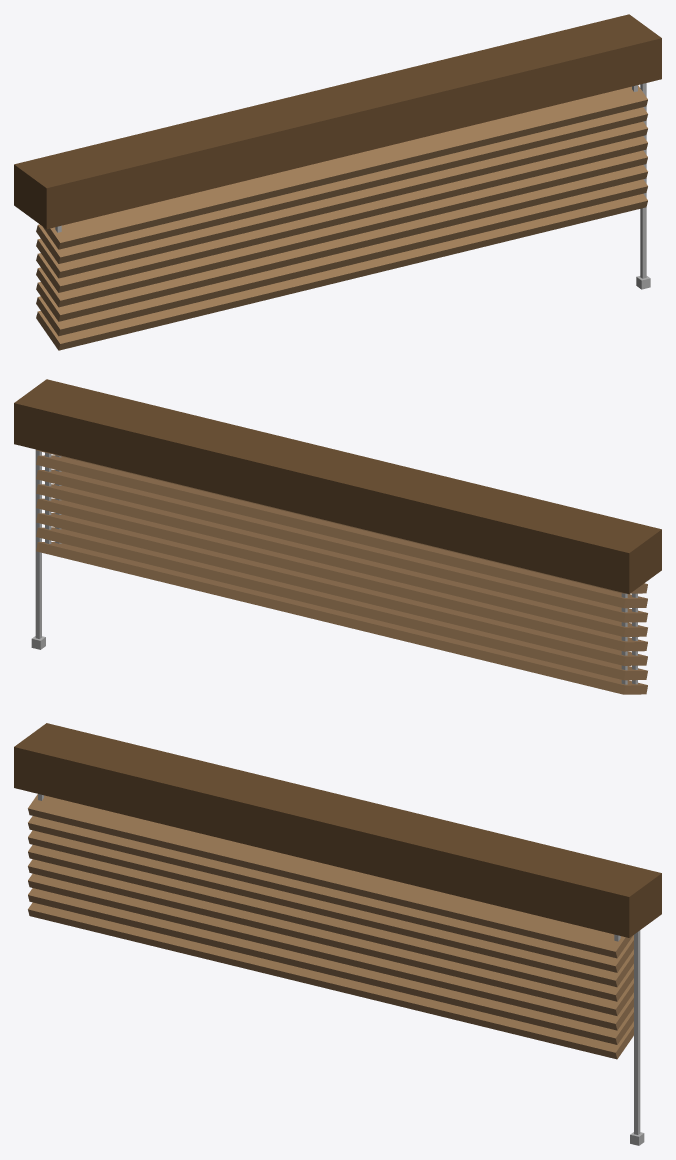
The model's file is Curtains14_C3.fbx.
The picture shows the model from 3 angles, top to bottom: view 1: azimuth 30°, elevation 25°; view 2: azimuth 150°, elevation 25°; view 3: azimuth 330°, elevation 25°; orthographic projection.
Visible parts, largest first — view 1: Curtains14_C3; view 2: Curtains14_C3; view 3: Curtains14_C3.
Part boxes in pixels (box(x1,y1,x2,y2)): Curtains14_C3: box(14, 14, 661, 350); Curtains14_C3: box(14, 379, 661, 694); Curtains14_C3: box(14, 723, 661, 1145).
Size of the model in its own units: 138 by 54.95 by 12.67.
